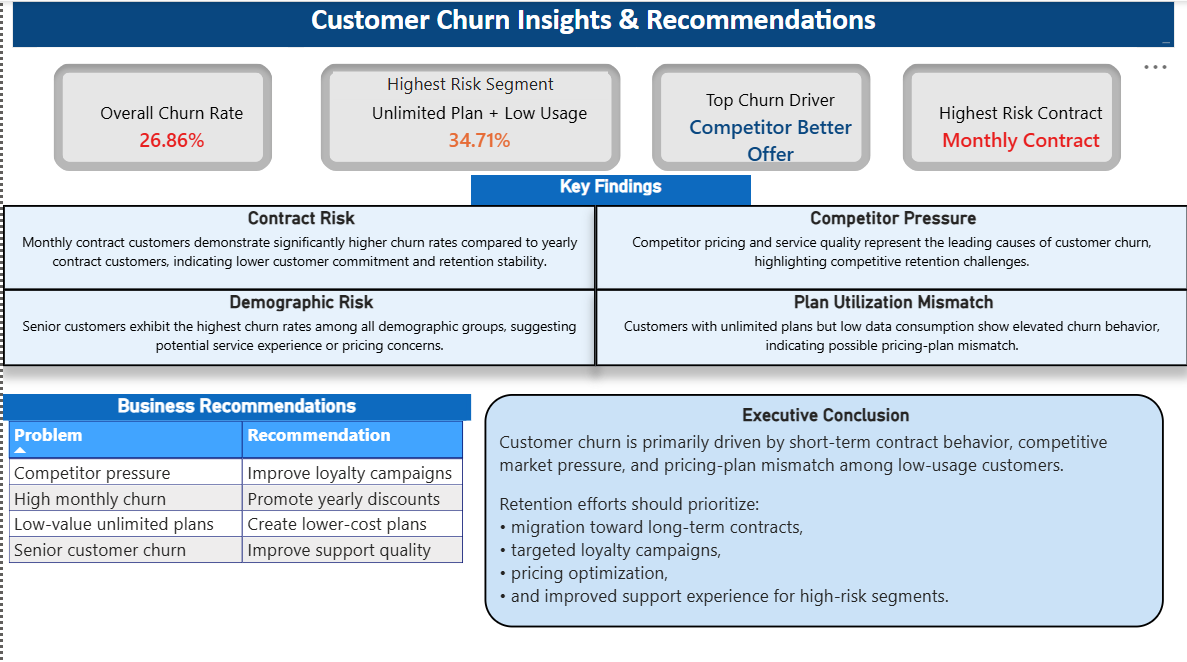

The dashboard page shown, as its layout file describes it:
{"tool":"powerbi","page":{"name":"Customer Churn Insights & Recommendations","canvas":[1280,720],"ordinal":5},"visuals":[{"type":"textbox","title":"Customer Churn Insights & Recommendations","box":[10,0,1255,50],"z":0},{"type":"cardVisual","fields":{"Data":["calculation.Churn Rate %"]},"box":[36.7,50,270,150],"z":1000},{"type":"cardVisual","fields":{"Data":["calculation.High Risk Segment Churn %"]},"box":[325,50,358.3,150],"z":2000},{"type":"cardVisual","fields":{"Data":["calculation.Top Churn Driver"]},"box":[683.3,50,270,150],"z":3000},{"type":"cardVisual","fields":{"Data":["calculation.Highest Risk Contract"]},"box":[953.3,50,270,150],"z":4000},{"type":"textbox","title":"Contract Risk","box":[0,220,640,91.7],"z":5000},{"type":"textbox","title":"Competitor Pressure","box":[639.7,220.5,639.7,91.9],"z":6000},{"type":"textbox","title":"Demographic Risk","box":[0,311.7,640,83.3],"z":7000},{"type":"textbox","title":"Plan Utilization Mismatch","box":[640,311.7,640,83.3],"z":8000},{"type":"textbox","title":"Highest Risk Segment","box":[356.7,76.7,296.7,30],"z":9000},{"type":"textbox","title":"Key Findings","box":[505,188.3,301.7,31.7],"z":10000},{"type":"tableEx","title":"Business Recommendations","fields":{"Values":["Business Recommendations.Problem","Business Recommendations.Recommendation"]},"box":[0,425,505,193.3],"z":11000},{"type":"textbox","title":"Executive Conclusion","box":[520,425,733.3,251.7],"z":12000}]}

Visuals, with their boxes in screenshot pixels (x1, y1, x2, y2), scaled from the page's 1280x720 canvas onto the 1187x662 screenshot:
"Customer Churn Insights & Recommendations" textbox: Rect(9, 0, 1173, 46)
cardVisual - calculation.Churn Rate %: Rect(34, 46, 284, 184)
cardVisual - calculation.High Risk Segment Churn %: Rect(301, 46, 634, 184)
cardVisual - calculation.Top Churn Driver: Rect(634, 46, 884, 184)
cardVisual - calculation.Highest Risk Contract: Rect(884, 46, 1134, 184)
"Contract Risk" textbox: Rect(0, 202, 594, 287)
"Competitor Pressure" textbox: Rect(593, 203, 1186, 287)
"Demographic Risk" textbox: Rect(0, 287, 594, 363)
"Plan Utilization Mismatch" textbox: Rect(594, 287, 1186, 363)
"Highest Risk Segment" textbox: Rect(331, 71, 606, 98)
"Key Findings" textbox: Rect(468, 173, 748, 202)
"Business Recommendations" tableEx: Rect(0, 391, 468, 568)
"Executive Conclusion" textbox: Rect(482, 391, 1162, 622)
